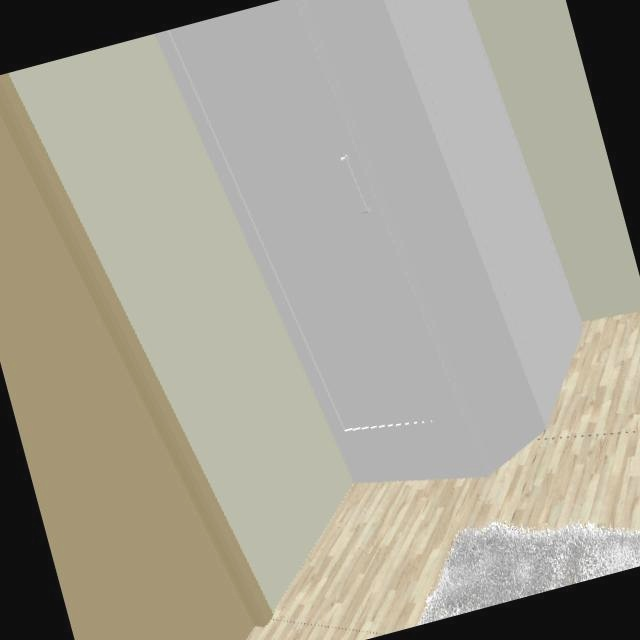shower: (151, 0, 582, 483)
